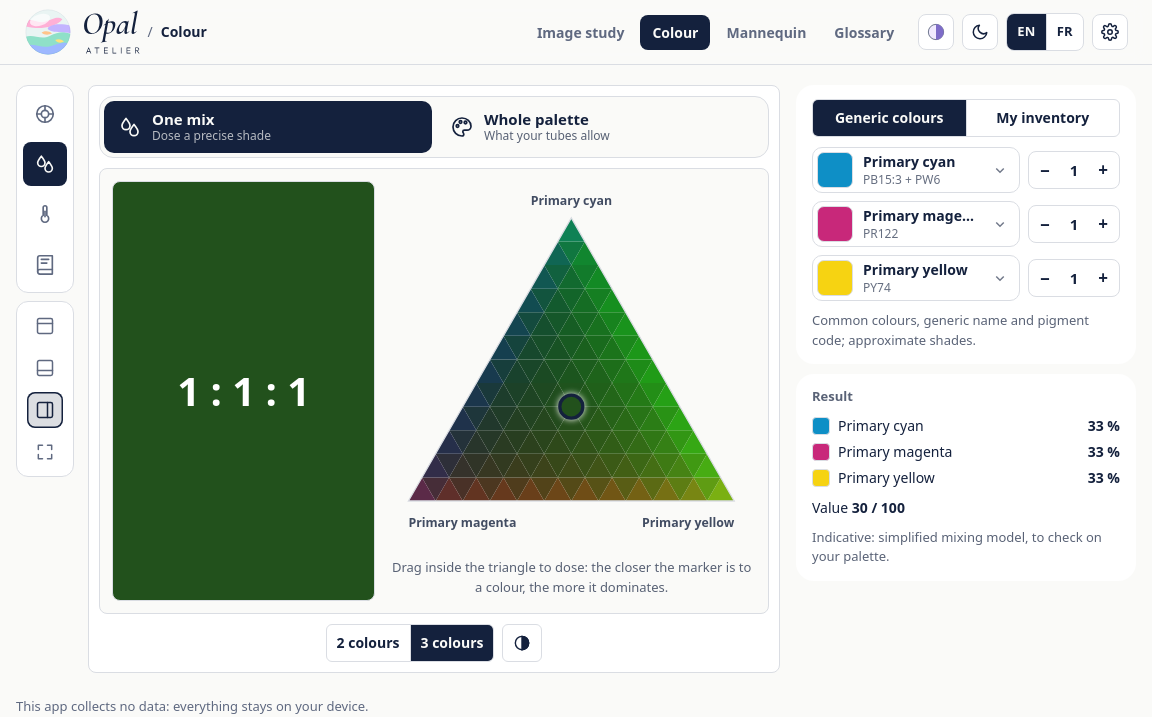
Test: Colour tool › mixing simulator › doses a mix with the part steppers
Click the button named "One part more of Primary cyan": (1103, 170) [1087,152,1119,188]
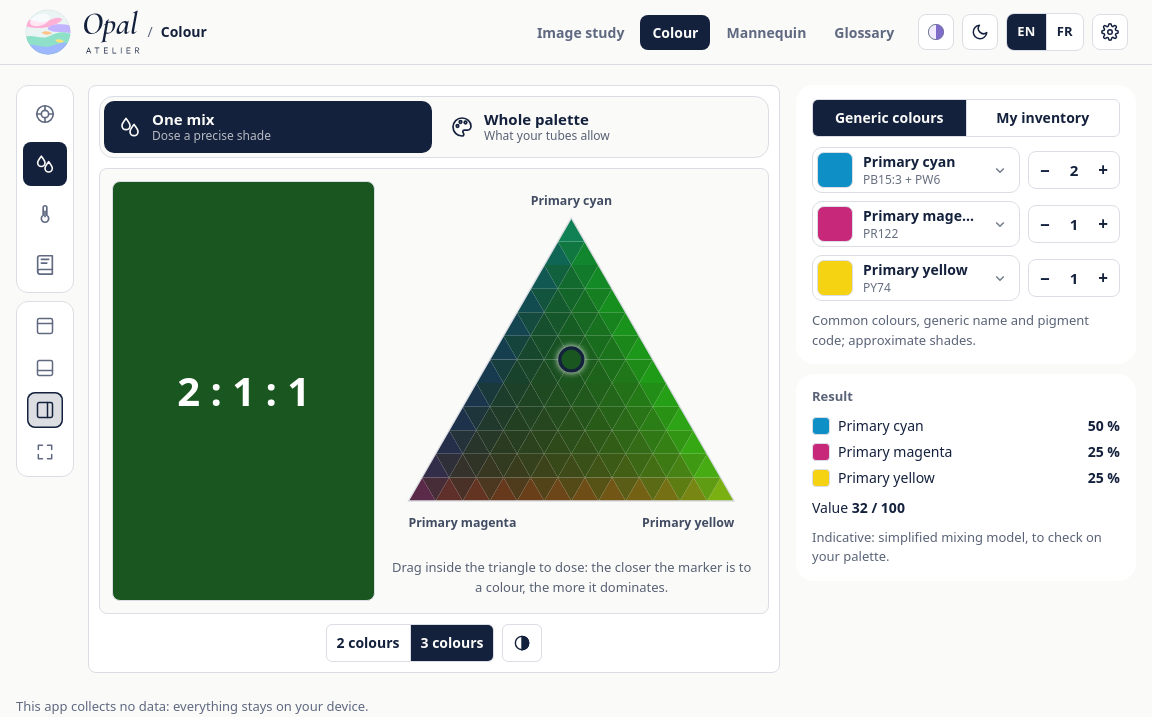
Now the picture named "Mix result, 2 : 1 : 1" is shown, box [112,181,375,601]
